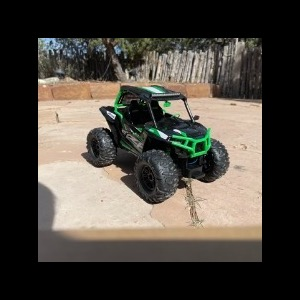polaris: (85, 83, 231, 206)
